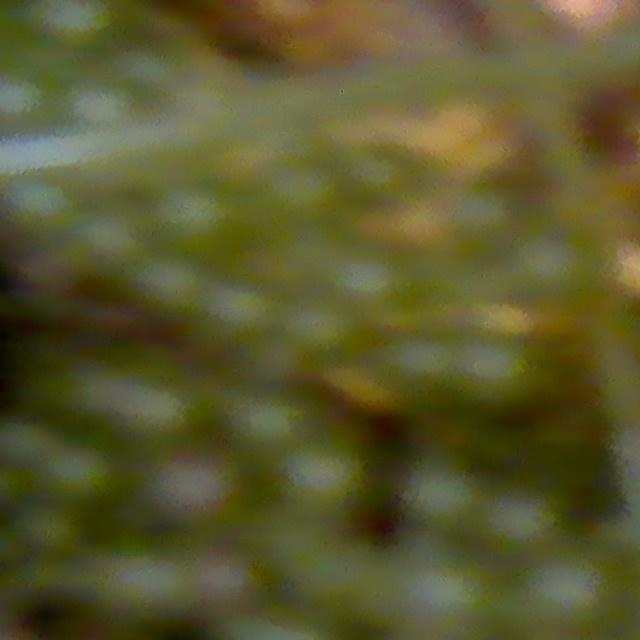SeaGrape: (392, 549, 497, 640), (510, 225, 613, 313), (278, 431, 369, 520), (526, 545, 618, 633), (145, 447, 242, 529), (481, 478, 568, 557), (443, 340, 528, 419), (67, 198, 146, 281), (346, 131, 425, 210), (231, 384, 316, 457), (404, 454, 483, 532), (1, 174, 76, 256), (334, 237, 413, 310), (121, 255, 215, 316), (285, 295, 370, 362), (40, 439, 117, 509), (152, 183, 228, 253), (261, 161, 340, 222), (206, 282, 274, 349), (376, 331, 449, 386), (440, 180, 504, 241), (20, 503, 83, 562), (52, 83, 125, 131)
